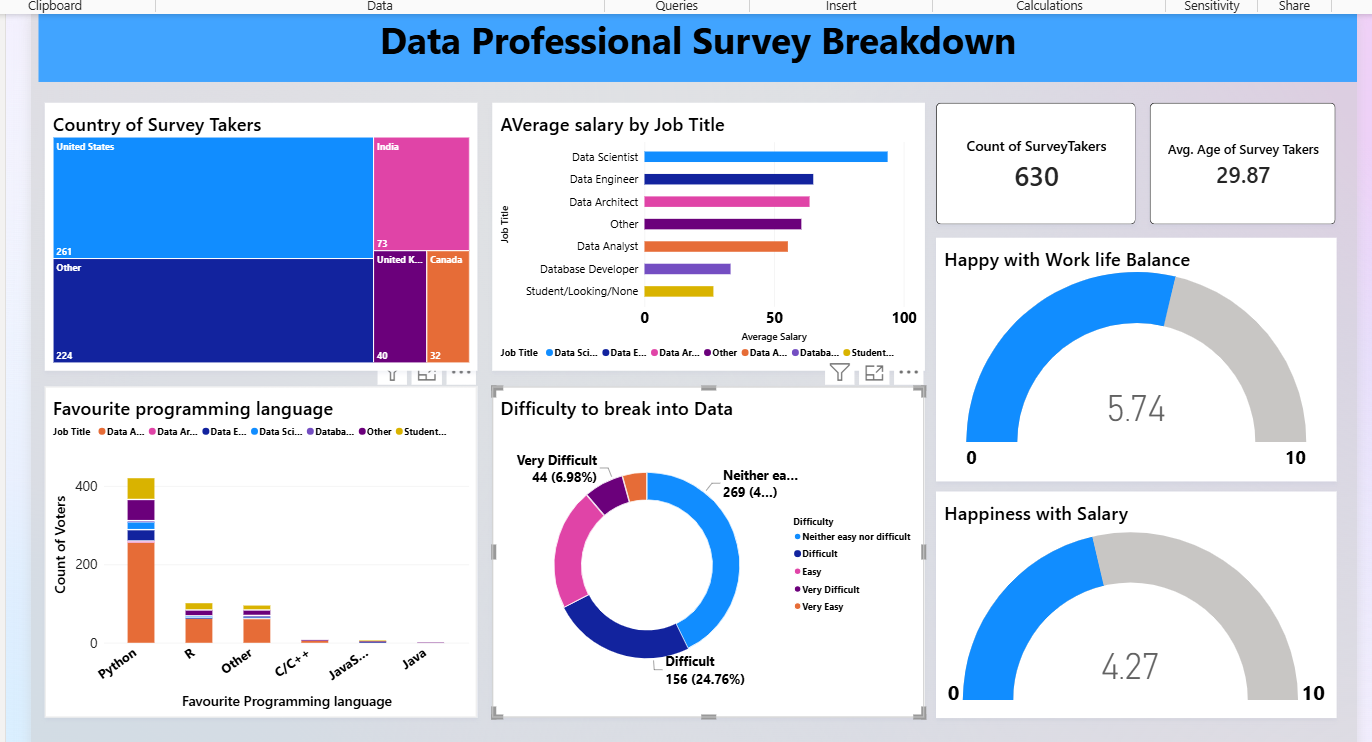

Layout of this report page (visuals, bound fields, positions):
{"tool":"powerbi","page":{"name":"Page 1","canvas":[1920,1080],"ordinal":0},"visuals":[{"type":"textbox","box":[11.2,0,1909.3,98.1],"z":0},{"type":"cardVisual","fields":{"Data":["Count(Data Professional Survey.Unique ID)"]},"box":[1309.3,129.4,290,176.2],"z":1},{"type":"cardVisual","fields":{"Data":["Avg(Data Professional Survey.Q10 - Current Age)"]},"box":[1619.3,129.4,269.9,176.2],"z":2},{"type":"barChart","title":"AVerage salary by Job Title ","fields":{"Category":["Data Professional Survey.Q1 - Which Title Best Fits your Current Role?.1"],"Series":["Data Professional Survey.Q1 - Which Title Best Fits your Current Role?.1"],"Y":["Avg(Data Professional Survey.Average Salary)"]},"box":[666.9,129.4,626.8,388.1],"z":3},{"type":"columnChart","title":"Favourite programming language ","fields":{"Category":["Data Professional Survey.Q5 - Favorite Programming Language.1"],"Series":["Data Professional Survey.Q1 - Which Title Best Fits your Current Role?.1"],"Y":["CountNonNull(Data Professional Survey.Unique ID)"]},"box":[20.1,539.8,626.8,479.6],"z":4},{"type":"treemap","title":"Country of Survey Takers ","fields":{"Group":["Data Professional Survey.Q11 - Which Country do you live in?.1"],"Values":["CountNonNull(Data Professional Survey.Q11 - Which Country do you live in?.1)"]},"box":[20.1,129.4,626.8,388.1],"z":5},{"type":"gauge","title":"Happy with Work life Balance ","fields":{"MaxValue":["Max(Data Professional Survey.Q6 - How Happy are you in your Current Position with the following? (Work/Life Balance))2"],"MinValue":["Min(Data Professional Survey.Q6 - How Happy are you in your Current Position with the following? (Work/Life Balance))1"],"Y":["Avg(Data Professional Survey.Q6 - How Happy are you in your Current Position with the following? (Work/Life Balance))"]},"box":[1309.3,323.4,579.9,352.4],"z":6},{"type":"gauge","title":"Happiness with Salary","fields":{"MaxValue":["Max(Data Professional Survey.Q6 - How Happy are you in your Current Position with the following? (Salary))"],"MinValue":["Min(Data Professional Survey.Q6 - How Happy are you in your Current Position with the following? (Salary))"],"Y":["Avg(Data Professional Survey.Q6 - How Happy are you in your Current Position with the following? (Salary))"]},"box":[1309.3,691.5,579.9,327.9],"z":7},{"type":"donutChart","title":"Difficulty to break into Data","fields":{"Category":["Data Professional Survey.Q7 - How difficult was it for you to break into Data?"],"Y":["CountNonNull(Data Professional Survey.Q7 - How difficult was it for you to break into Data?)"]},"box":[666.9,539.8,626.8,479.6],"z":8}]}

Visuals, with their boxes in screenshot pixels (x1, y1, x2, y2):
textbox: bbox=[43, 11, 1339, 77]
cardVisual - Count(Data Professional Survey.Unique ID): bbox=[924, 99, 1121, 218]
cardVisual - Avg(Data Professional Survey.Q10 - Current Age): bbox=[1135, 99, 1318, 218]
"AVerage salary by Job Title " barChart: bbox=[488, 99, 914, 362]
"Favourite programming language " columnChart: bbox=[49, 377, 475, 702]
"Country of Survey Takers " treemap: bbox=[49, 99, 475, 362]
"Happy with Work life Balance " gauge: bbox=[924, 230, 1318, 469]
"Happiness with Salary" gauge: bbox=[924, 480, 1318, 702]
"Difficulty to break into Data" donutChart: bbox=[488, 377, 914, 702]
